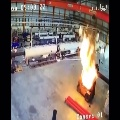fire: (80, 32, 98, 89)
